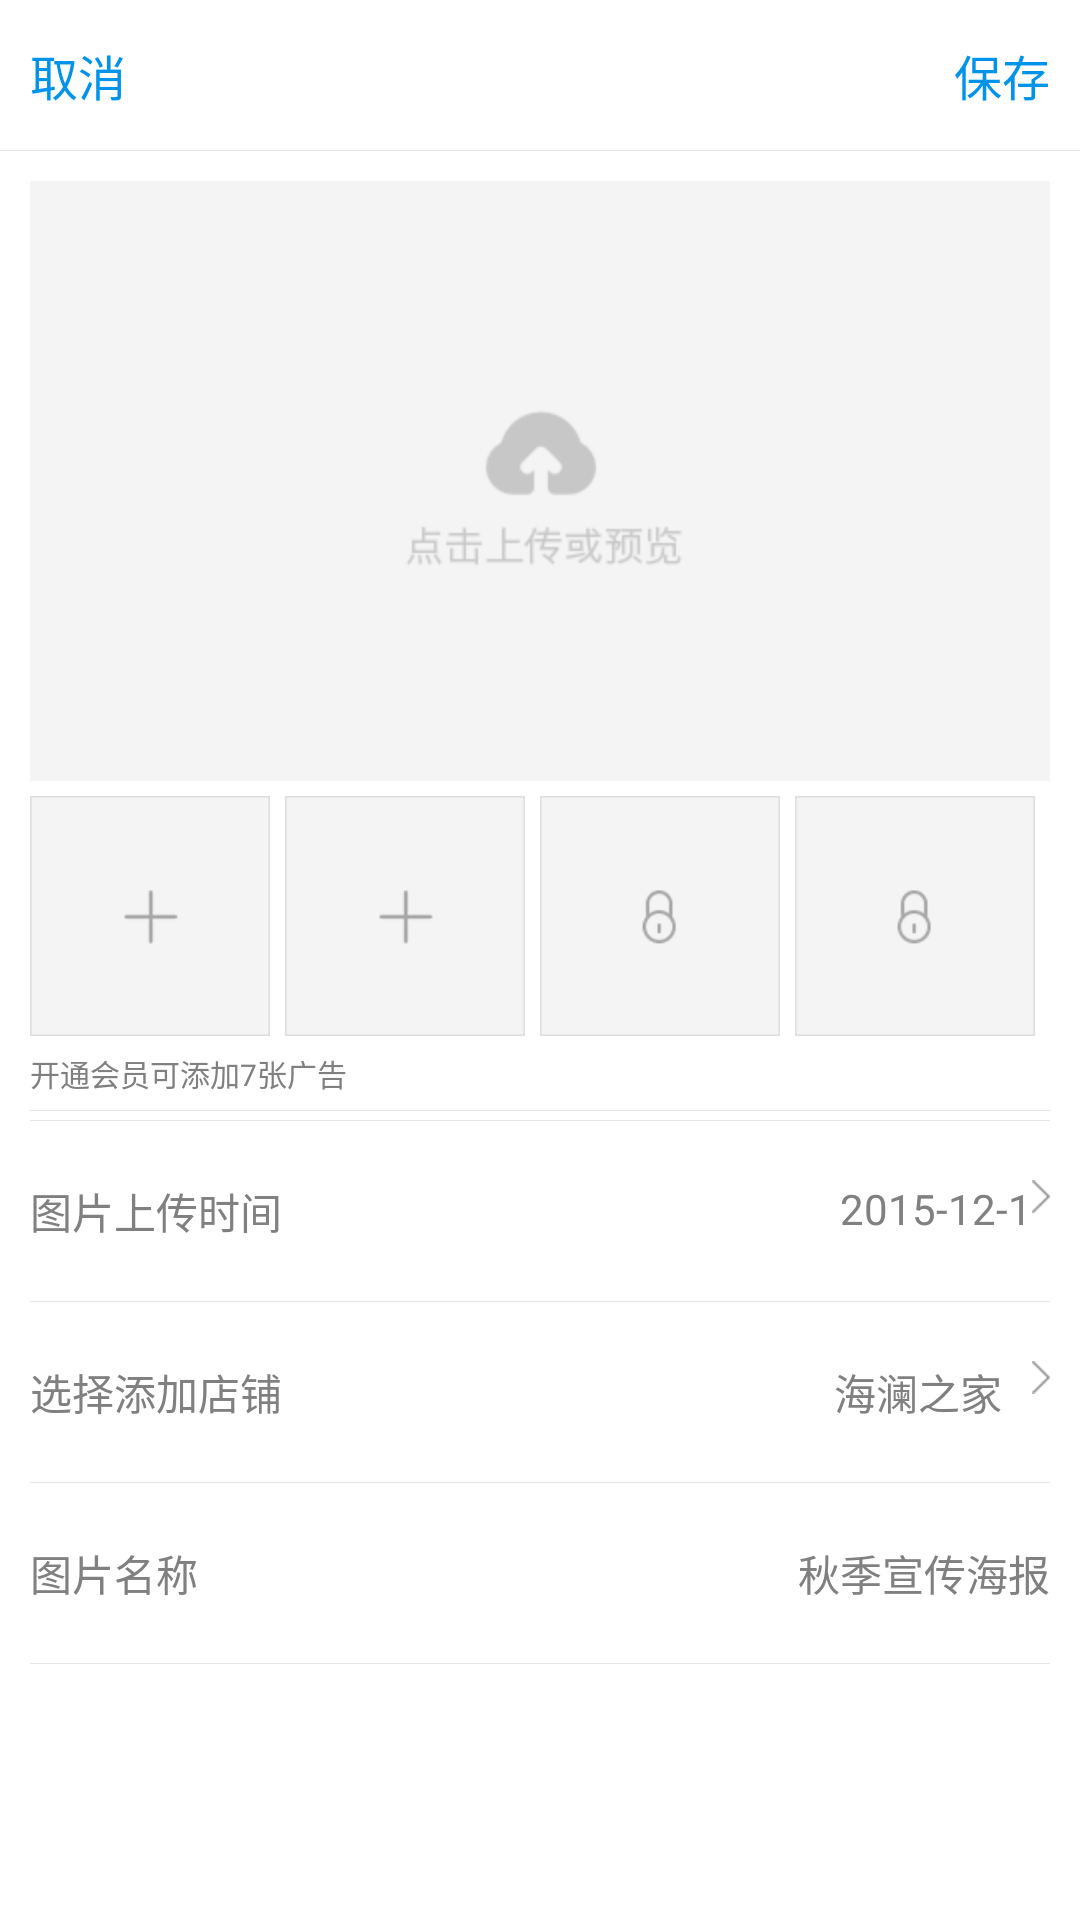

Icon click points for this 1080 × 1920 phone screenshot, format (x,y):
ads lock: (660,916), (915,916)
